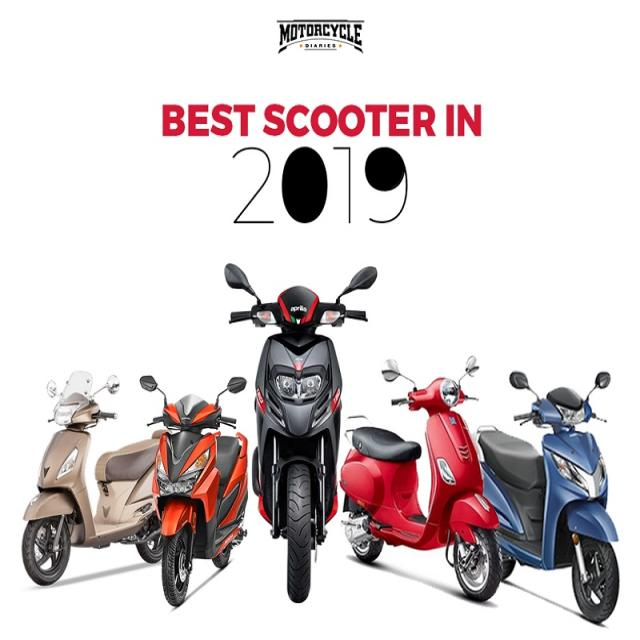motorcycle: (225, 264, 378, 602), (340, 355, 501, 601), (478, 387, 619, 622), (22, 371, 161, 585), (140, 374, 248, 606)
